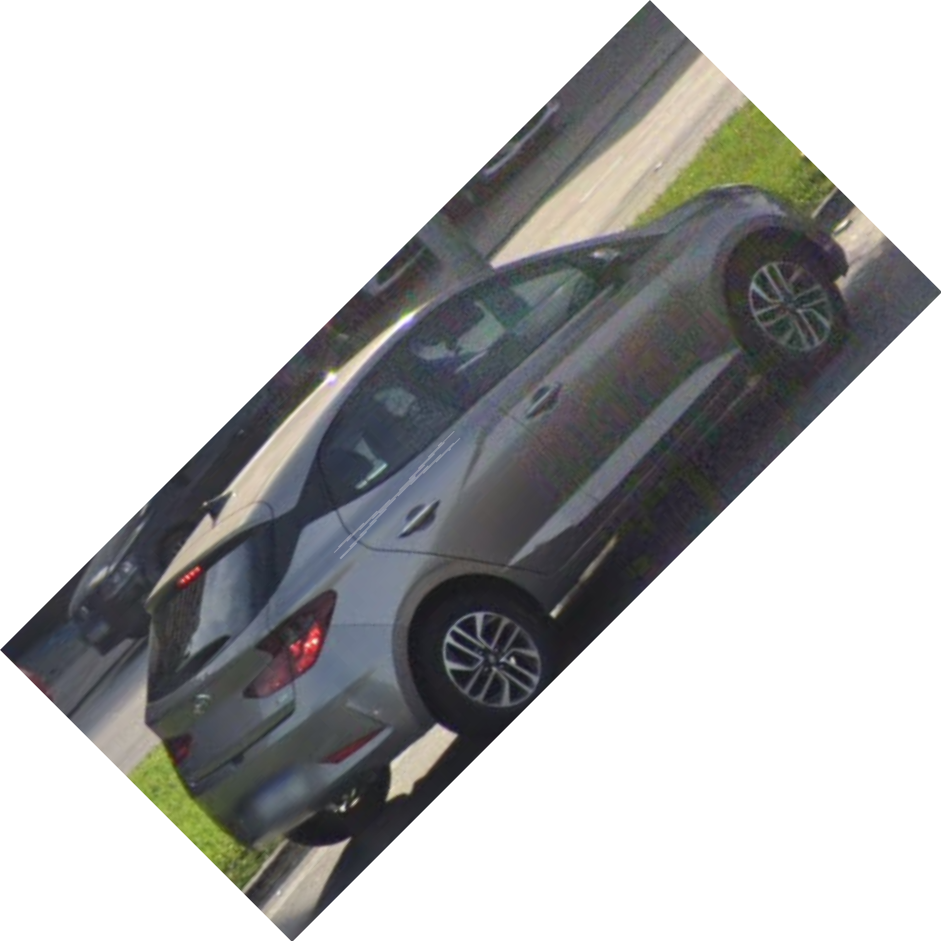car: (139, 186, 855, 851)
